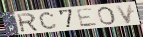7: (58, 9, 75, 29)
C: (38, 11, 58, 30)
E: (75, 7, 99, 28)
O: (97, 6, 117, 26)
R: (16, 12, 40, 33)
V: (114, 3, 134, 25)
